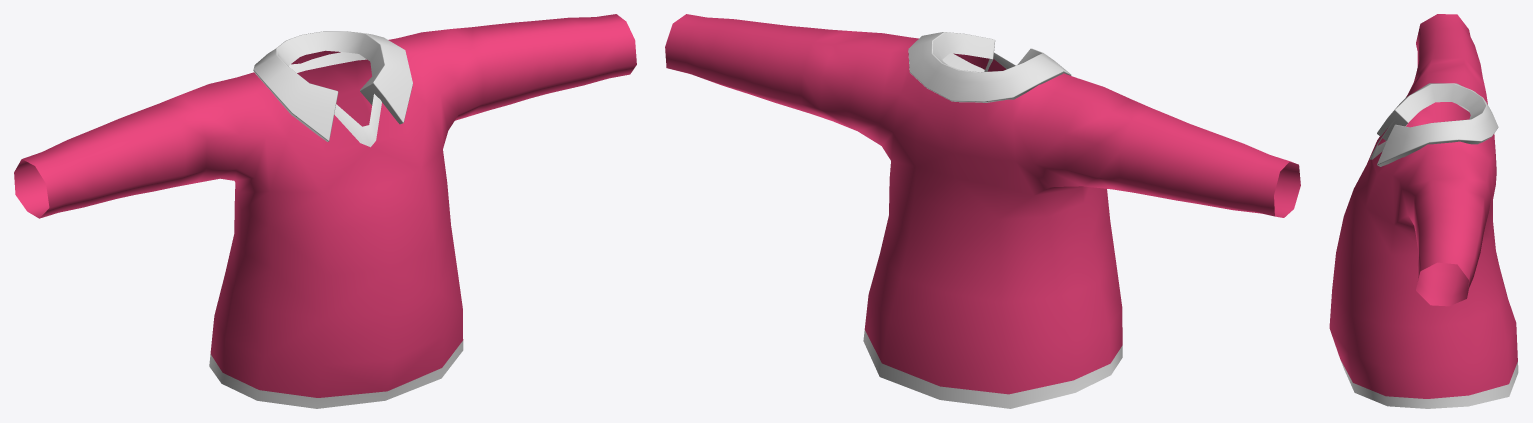
Rendered from Outerwear_Pink_009.glb.
3 renders of one model, left to right at view 1: azimuth 30°, elevation 25°; view 2: azimuth 150°, elevation 25°; view 3: azimuth 270°, elevation 25°, orthographic. The views are drawn at different scales.
Visible parts, largest first — view 1: Outerwear_Pink_009; view 2: Outerwear_Pink_009; view 3: Outerwear_Pink_009.
Part boxes in pixels (box(x1,y1,x2,y2)): Outerwear_Pink_009: box(14, 14, 636, 408); Outerwear_Pink_009: box(665, 14, 1300, 408); Outerwear_Pink_009: box(1329, 14, 1518, 408).
Size of the model in its own units: 1.3 by 0.6517 by 0.4131.
1 material, 1 textured.
